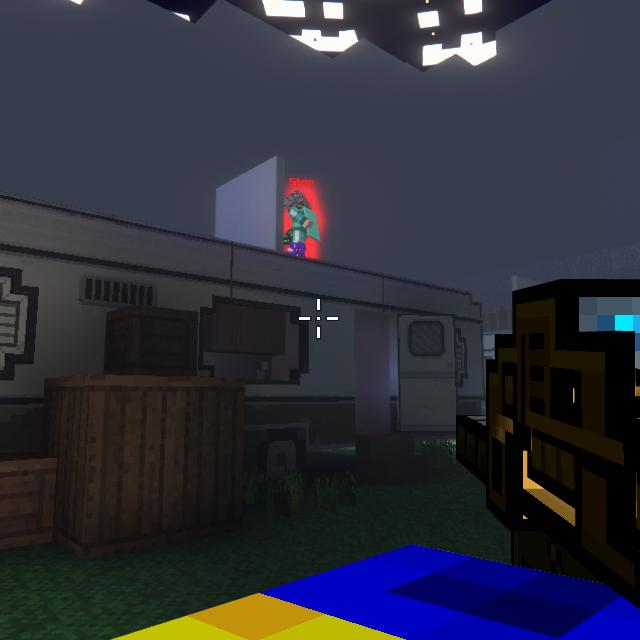Enemy: (284, 187, 318, 255)
